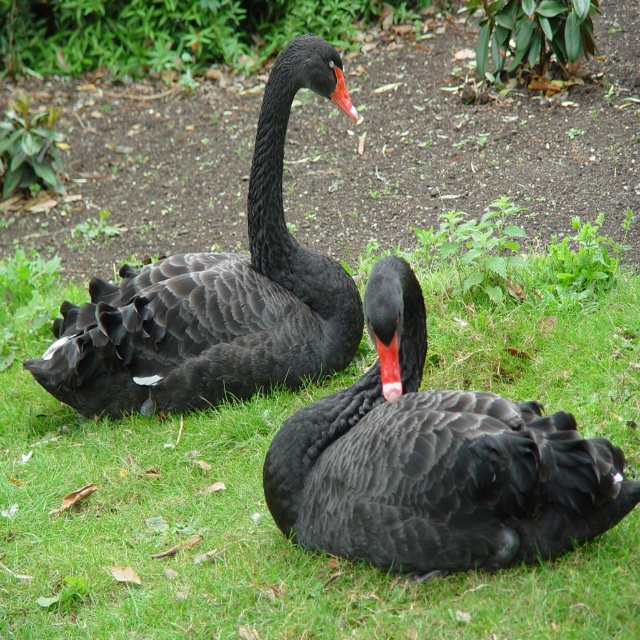Goose: (22, 32, 364, 421)
